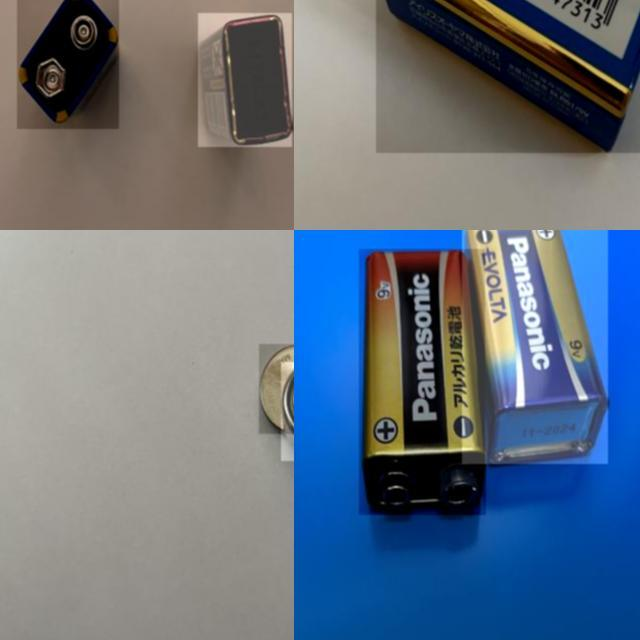9V: (376, 0, 640, 153), (462, 230, 608, 464), (359, 249, 486, 514), (16, 0, 119, 129), (199, 13, 293, 147)
